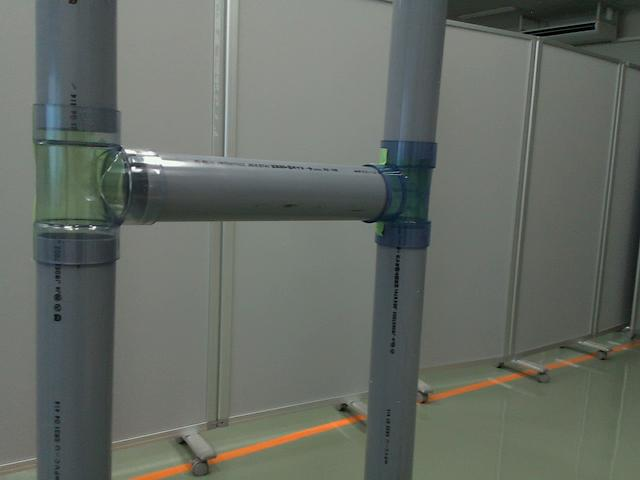junction: (38, 105, 171, 274), (360, 140, 438, 250)
